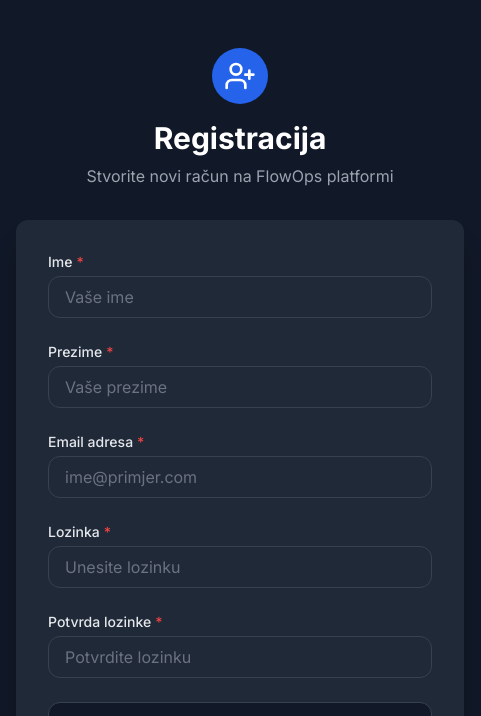
RegisterPage › shows validation error for empty last name
This screenshot has width=481, height=716.
Type "Ivan" into the field with placeholder "Vaše ime".
click(240, 297); type("Ivan")  # box [48, 276, 432, 318]
(page scrolled)
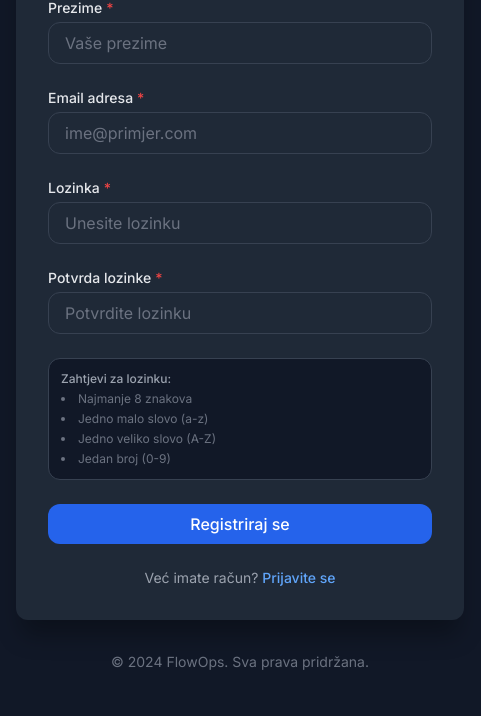
Click the button "Registriraj se".
click(240, 524)  # box [48, 504, 432, 544]
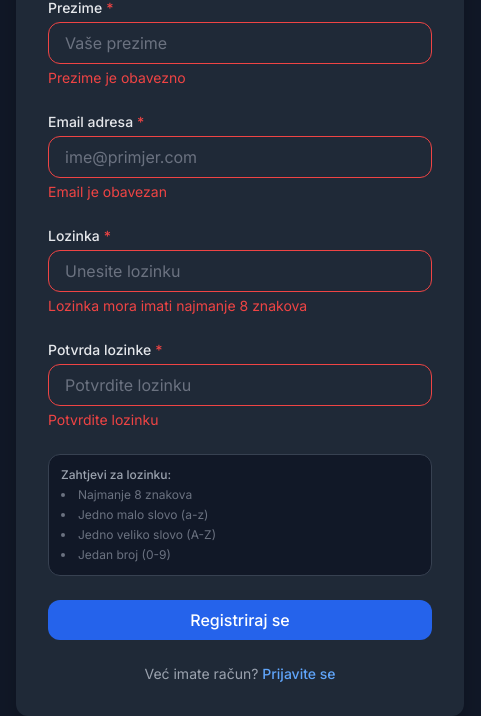
Expected: the text "Prezime je obavezno" is shown, [48, 69, 186, 86]
